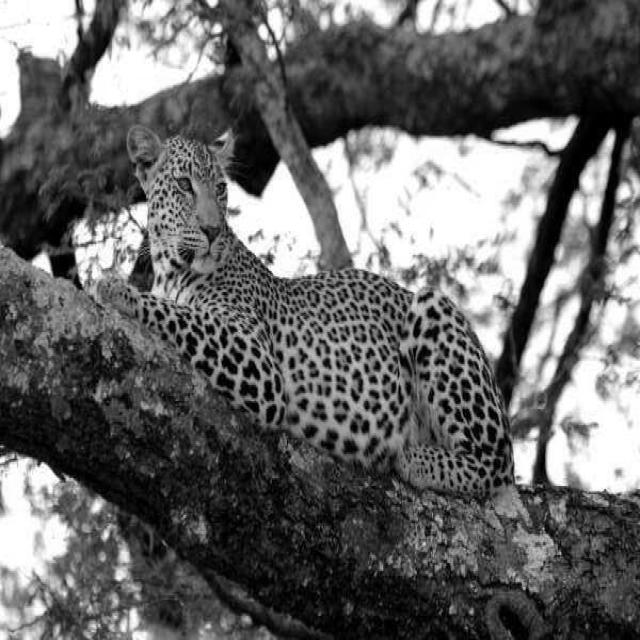Leopard: (91, 122, 516, 499)
